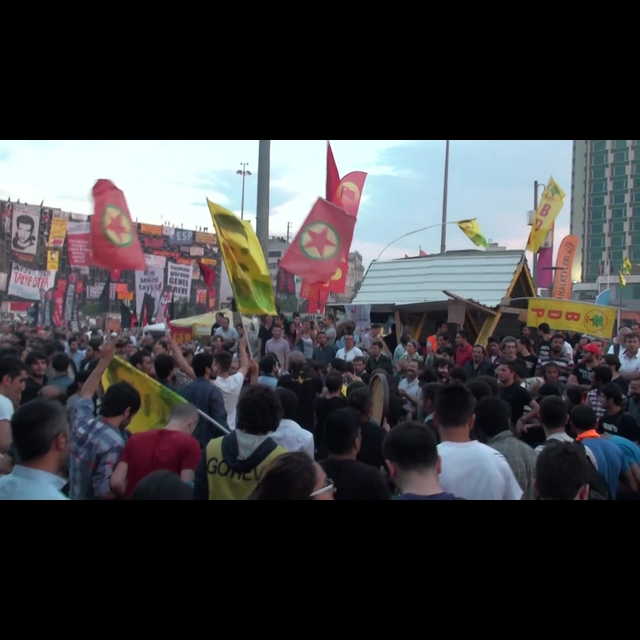PKK: (299, 220, 341, 264), (102, 202, 136, 252)
